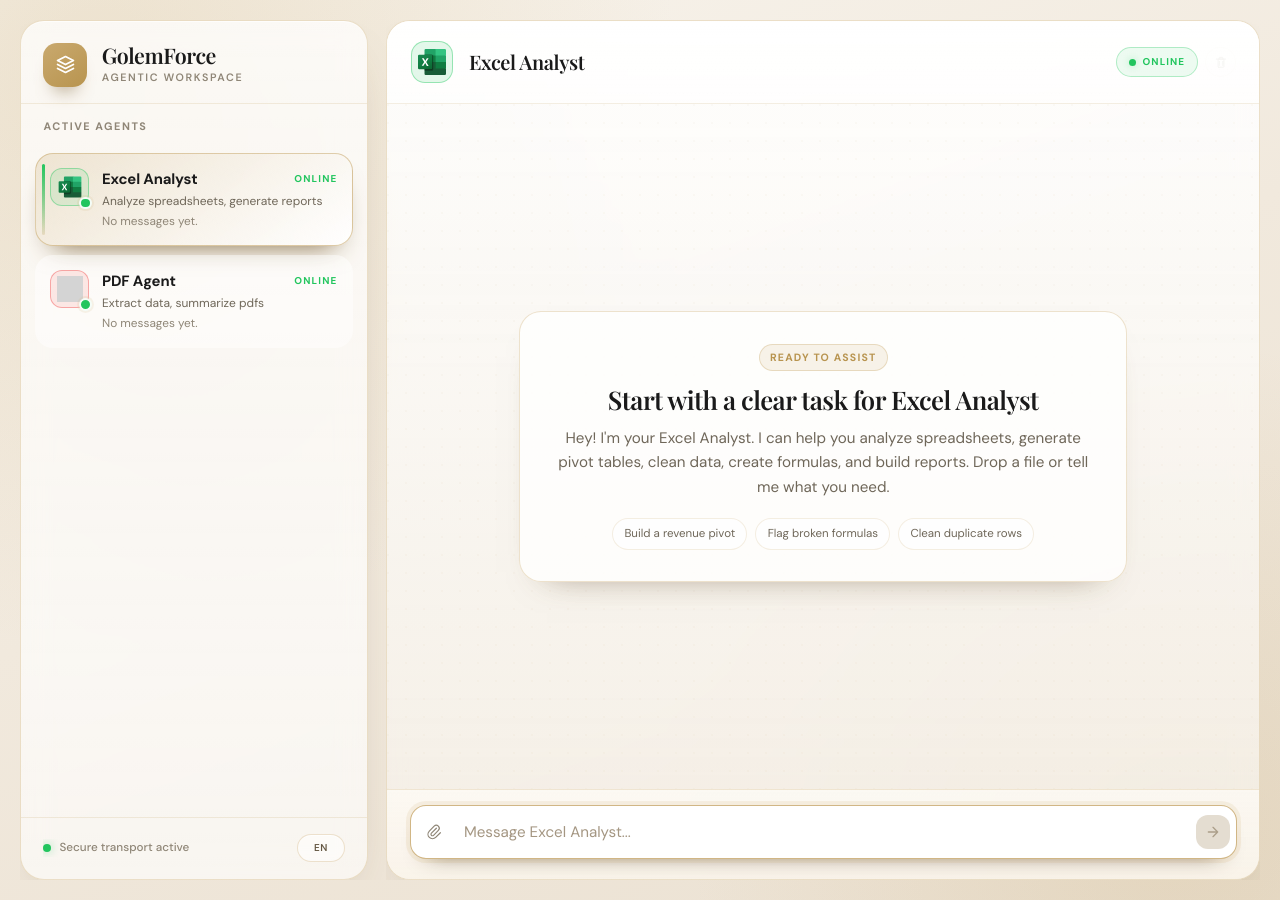
App chat flow › shows a task-specific ticker label for pending Word generation
This screenshot has width=1280, height=900.
Step 1. Type "Create a Word document for the customer" into the field with placeholder "Message Excel Analyst..." → x=823, y=832, box [456, 812, 1190, 852]
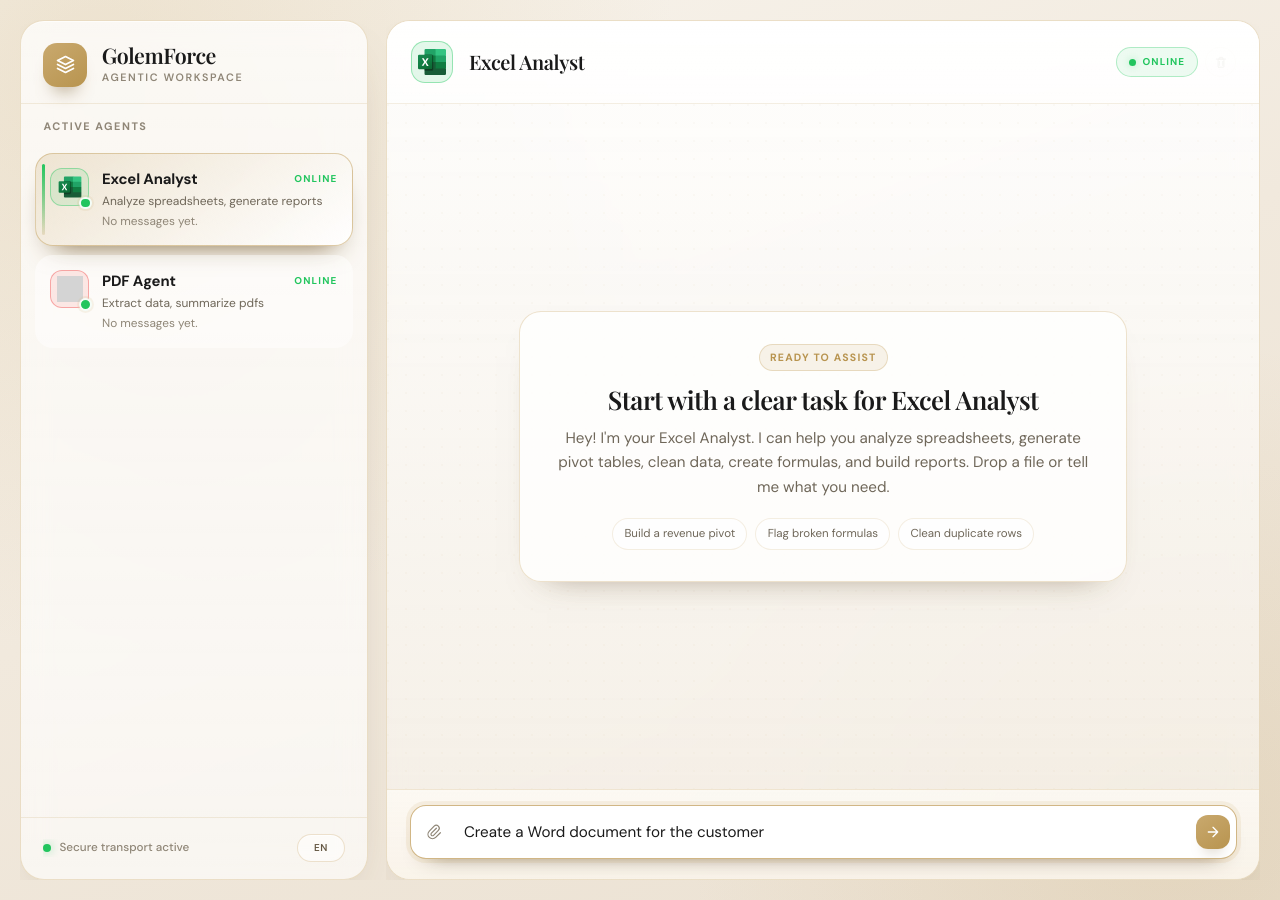
Step 2. Click the button named "Send message" → x=1213, y=832, box [1196, 815, 1230, 849]
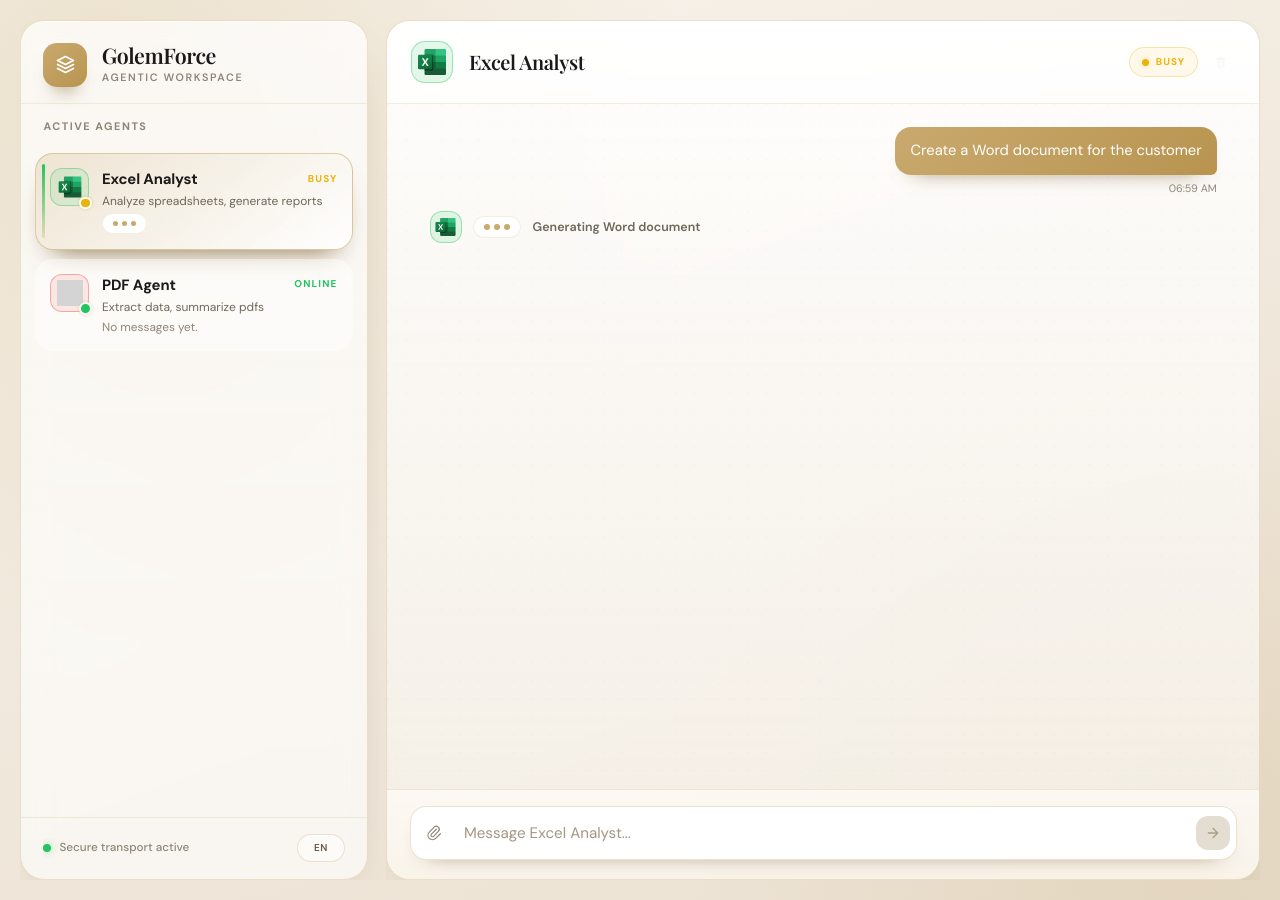
Expected: the text "Generating Word document" is shown, [533, 218, 700, 237]
